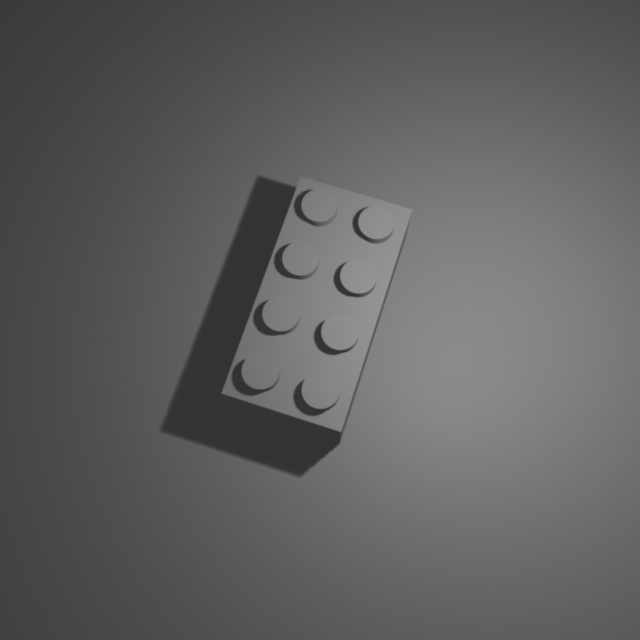lego_2x4: (220, 171, 414, 444)
